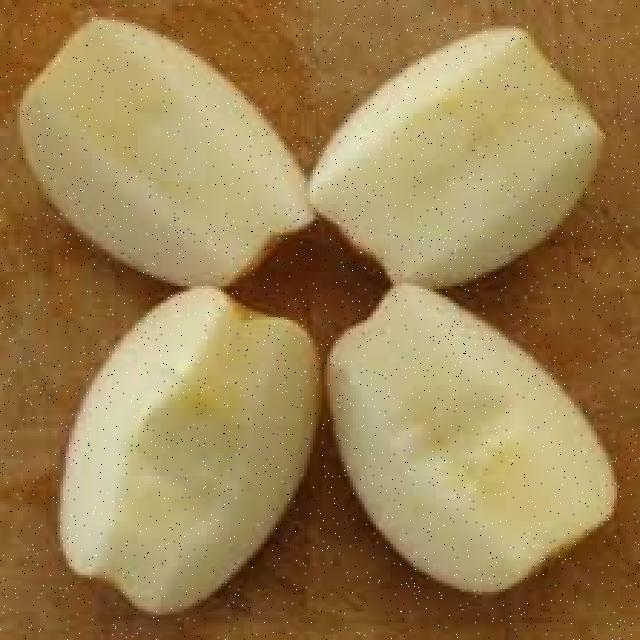Apple: (325, 276, 622, 598), (49, 273, 323, 618), (304, 24, 611, 297), (18, 11, 312, 280)
